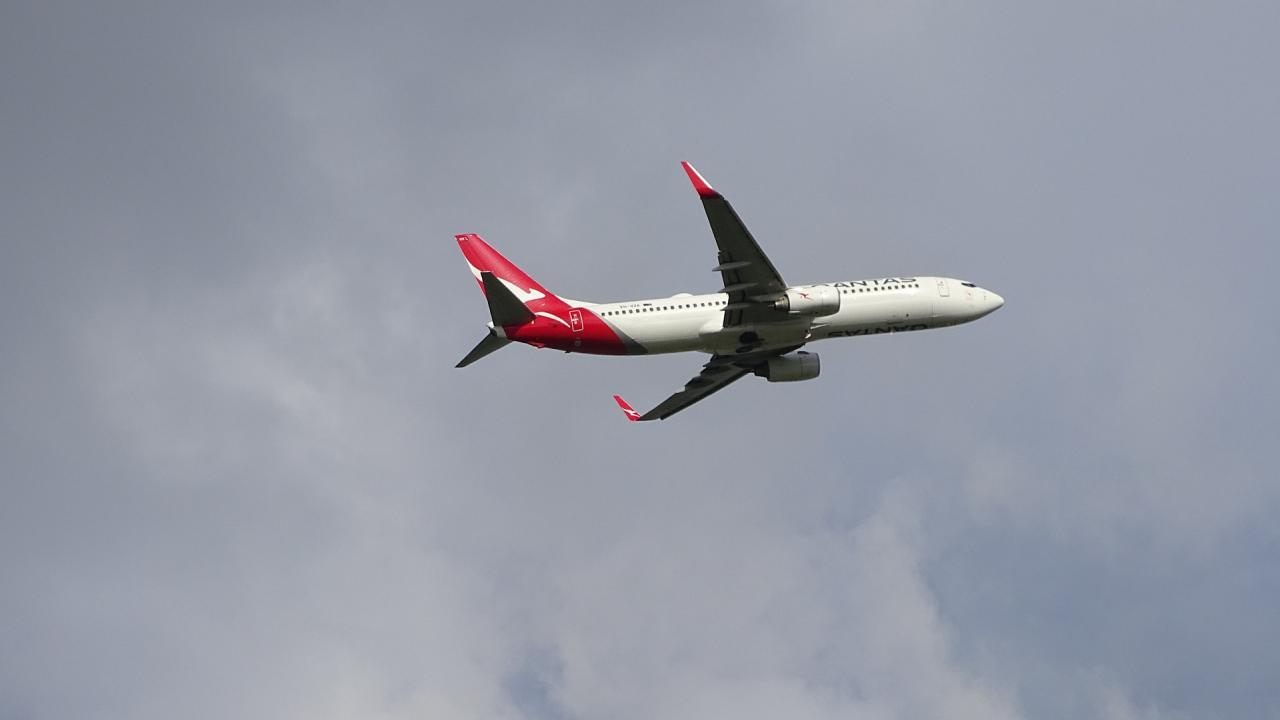Airplane: (445, 145, 1018, 439)
